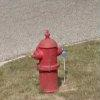Hydrant: (28, 20, 66, 94)
